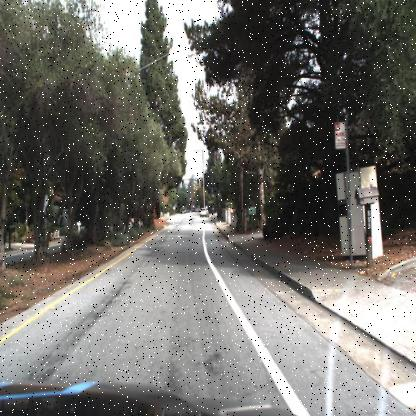car: (198, 203, 209, 219), (201, 204, 211, 221)
trafficLight-Green: (194, 174, 202, 192)
